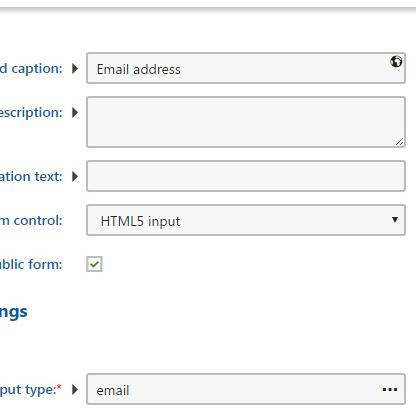field: (83, 96, 408, 149), (84, 48, 406, 85), (83, 371, 408, 407), (84, 159, 409, 193)
